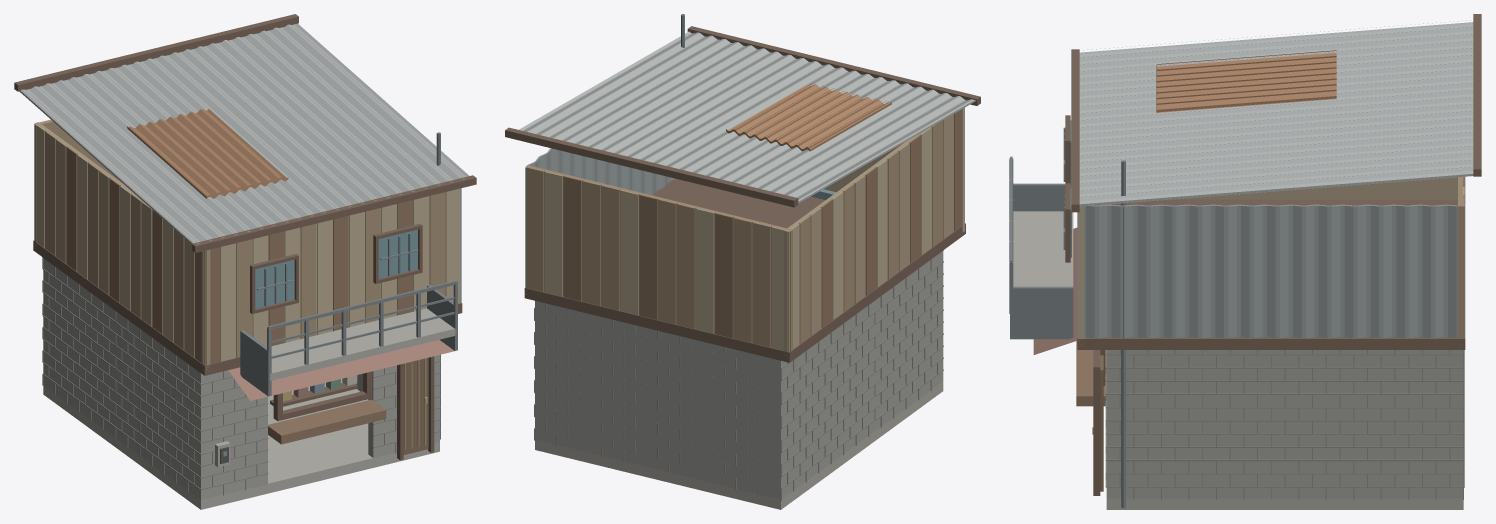
File: SH08_Two_Storey_SariSari_House.glb
3 renders of one model, left to right at view 1: azimuth 30°, elevation 25°; view 2: azimuth 150°, elevation 25°; view 3: azimuth 270°, elevation 25°, orthographic. The views are drawn at different scales.
Visible parts, largest first — view 1: 665_Upper_roof_sheet, 002_Left_lower_concrete, 001_Ground_slab, 668_Upper_roof_patch, 476_Front_left_concrete, 642_Front_balcony_floor, 654_Shop_awning, 666_Upper_roof_front_fascia, 667_Upper_roof_back_fascia, 564_Shop_counter, 518_Front_right_concrete, 573_Upper_floor (+47 smaller); view 2: 665_Upper_roof_sheet, 338_Rear_lower_concrete, 002_Left_lower_concrete, 573_Upper_floor, 668_Upper_roof_patch, 001_Ground_slab, 667_Upper_roof_back_fascia, 591_Upper_rear_backing, 623_Upper_right, 595_Upper_rear_plank_04, 598_Upper_rear_plank_07, 604_Upper_rear_plank_13 (+31 smaller); view 3: 665_Upper_roof_sheet, 623_Upper_right, 170_Right_lower_concrete, 668_Upper_roof_patch, 573_Upper_floor, 642_Front_balcony_floor, 001_Ground_slab, 606_Upper_left_backing, 653_Balcony_side_rail_1.7745, 652_Balcony_side_rail_-1.7745, 666_Upper_roof_front_fascia, 667_Upper_roof_back_fascia (+20 smaller).
Boxes of the visible parts, left/top/right/bottom form: 665_Upper_roof_sheet: left=19, top=23, right=469, bottom=244; 002_Left_lower_concrete: left=43, top=258, right=209, bottom=499; 001_Ground_slab: left=43, top=379, right=439, bottom=509; 668_Upper_roof_patch: left=127, top=109, right=288, bottom=198; 476_Front_left_concrete: left=197, top=370, right=267, bottom=499; 642_Front_balcony_floor: left=270, top=308, right=456, bottom=380; 654_Shop_awning: left=228, top=339, right=454, bottom=400; 666_Upper_roof_front_fascia: left=192, top=175, right=476, bottom=252; 667_Upper_roof_back_fascia: left=14, top=14, right=298, bottom=91; 564_Shop_counter: left=268, top=399, right=386, bottom=444; 518_Front_right_concrete: left=368, top=355, right=439, bottom=457; 573_Upper_floor: left=33, top=240, right=462, bottom=375; 665_Upper_roof_sheet: left=519, top=31, right=975, bottom=203; 338_Rear_lower_concrete: left=535, top=301, right=785, bottom=500; 002_Left_lower_concrete: left=772, top=251, right=943, bottom=500; 573_Upper_floor: left=524, top=179, right=965, bottom=362; 668_Upper_roof_patch: left=726, top=83, right=891, bottom=151; 001_Ground_slab: left=535, top=381, right=943, bottom=509; 667_Upper_roof_back_fascia: left=505, top=127, right=798, bottom=207; 591_Upper_rear_backing: left=526, top=165, right=792, bottom=351; 623_Upper_right: left=525, top=148, right=675, bottom=294; 595_Upper_rear_plank_04: left=715, top=213, right=733, bottom=338; 598_Upper_rear_plank_07: left=658, top=199, right=676, bottom=324; 604_Upper_rear_plank_13: left=544, top=171, right=562, bottom=296; 665_Upper_roof_sheet: left=1077, top=20, right=1473, bottom=206; 623_Upper_right: left=1077, top=204, right=1465, bottom=338; 170_Right_lower_concrete: left=1106, top=350, right=1463, bottom=498; 668_Upper_roof_patch: left=1156, top=50, right=1336, bottom=112; 573_Upper_floor: left=1077, top=199, right=1465, bottom=349; 642_Front_balcony_floor: left=1013, top=211, right=1073, bottom=286; 001_Ground_slab: left=1106, top=498, right=1463, bottom=509; 606_Upper_left_backing: left=1171, top=177, right=1465, bottom=199; 653_Balcony_side_rail_1.7745: left=1010, top=286, right=1073, bottom=339; 652_Balcony_side_rail_-1.7745: left=1013, top=183, right=1065, bottom=211; 666_Upper_roof_front_fascia: left=1071, top=49, right=1079, bottom=212; 667_Upper_roof_back_fascia: left=1473, top=14, right=1481, bottom=176.
Bounding box in the file's own units: 5.35 × 5.66 × 6.87.
